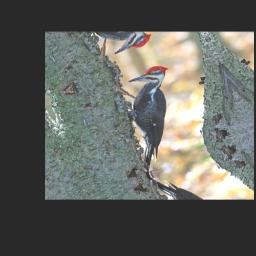Woodpecker: (103, 60, 209, 175)
